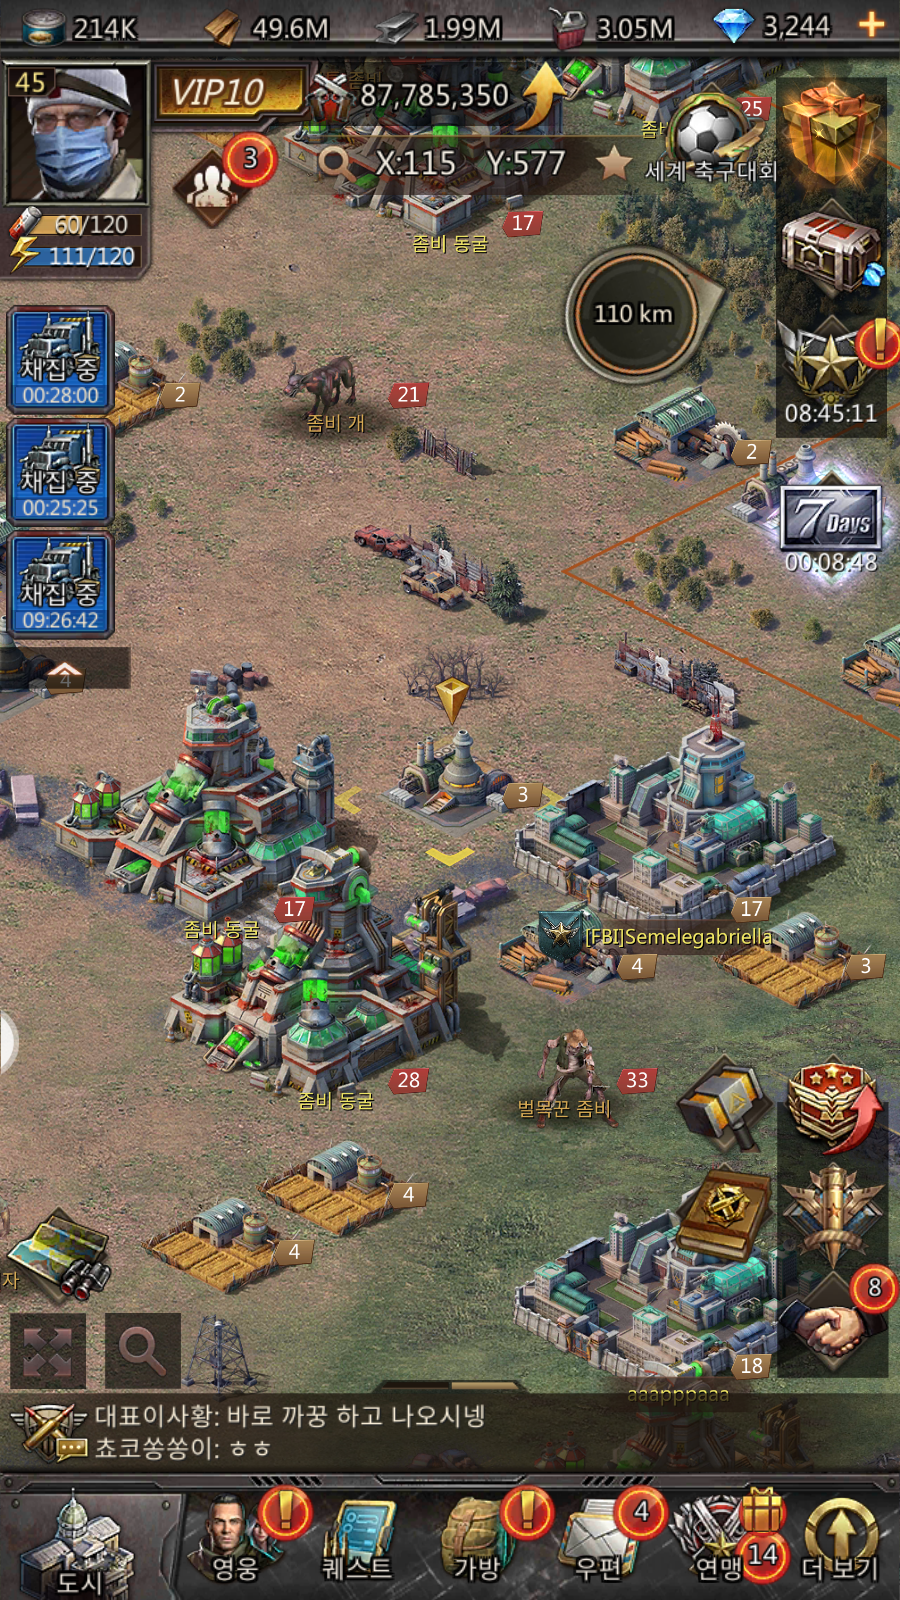city: (9, 1493, 174, 1600)
empty_steel: (322, 655, 580, 878)
open_panel: (98, 1304, 196, 1393)
troops_cnt_3: (162, 129, 289, 247)
